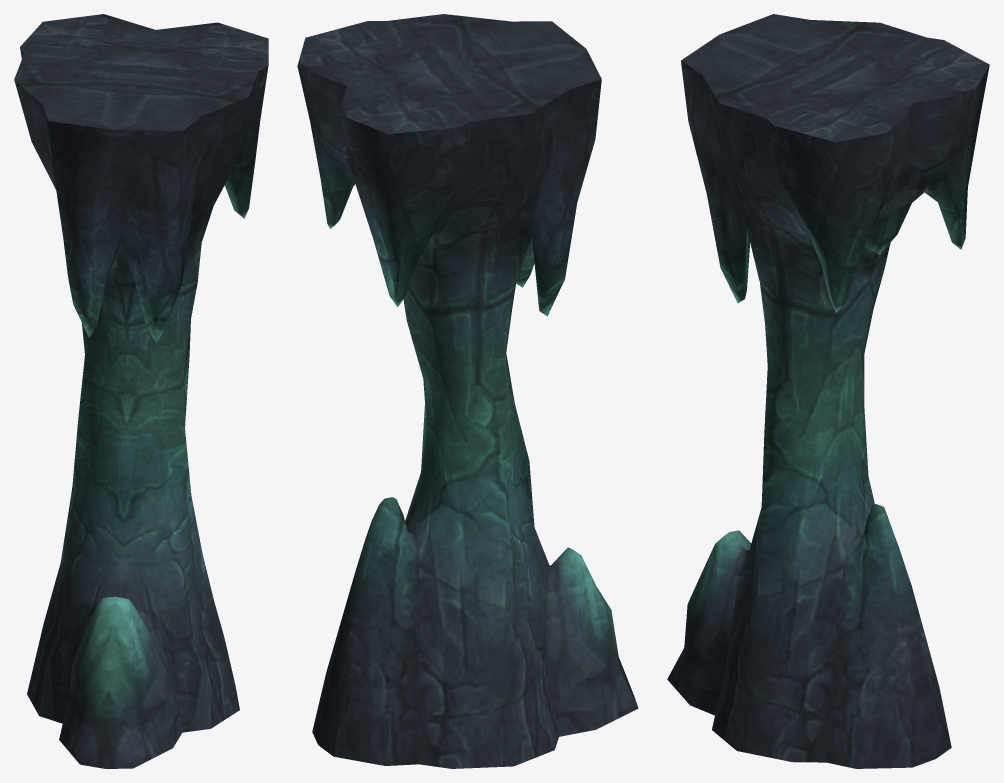
File: M3_R_rushizhu001.FBX
3 views of the same model, side by side, from view 1: azimuth 30°, elevation 25°; view 2: azimuth 150°, elevation 25°; view 3: azimuth 270°, elevation 25° (orthographic). The views are drawn at different scales.
Parts seen in each view (by area): view 1: M3_R_rushizhu001; view 2: M3_R_rushizhu001; view 3: M3_R_rushizhu001.
Part boxes in pixels (left/top/right/bottom): M3_R_rushizhu001: left=14, top=14, right=268, bottom=768; M3_R_rushizhu001: left=297, top=14, right=638, bottom=768; M3_R_rushizhu001: left=667, top=14, right=989, bottom=768.
Size of the model in its own units: 251 by 590 by 266.
